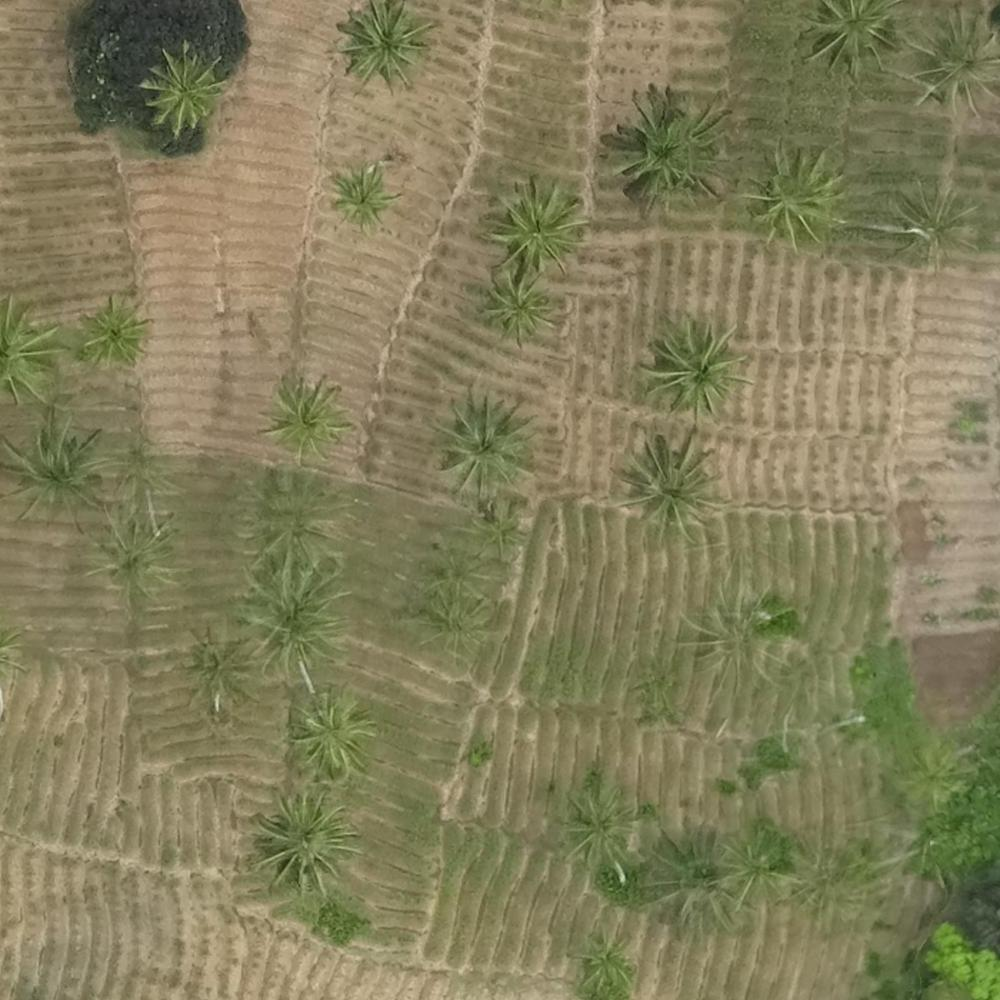Palm: (613, 95, 722, 202), (5, 410, 107, 524), (431, 390, 536, 495), (621, 438, 725, 539), (648, 315, 748, 413), (249, 792, 350, 888), (242, 574, 344, 668), (907, 15, 999, 118), (750, 142, 840, 240), (490, 181, 583, 271), (259, 376, 349, 457), (294, 690, 375, 779), (343, 2, 428, 86), (894, 178, 977, 262), (807, 4, 902, 75), (560, 793, 642, 872), (143, 49, 222, 128), (77, 295, 147, 367), (483, 268, 553, 338), (329, 159, 397, 228), (572, 935, 635, 992)
